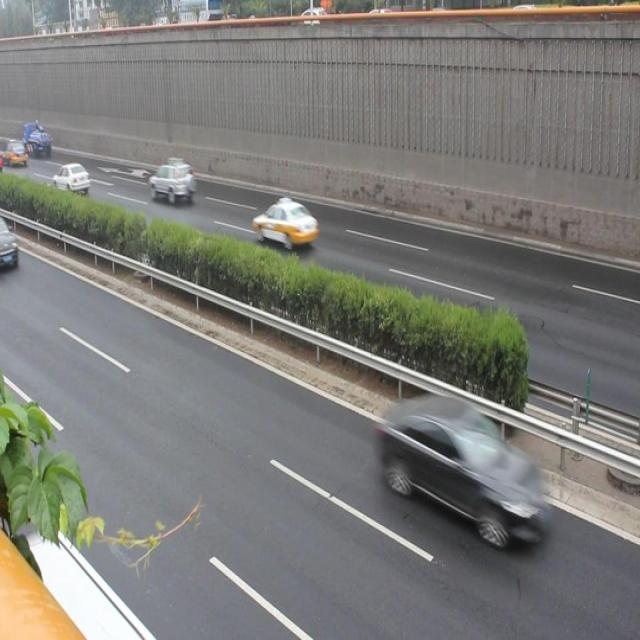car: (376, 391, 558, 551), (15, 512, 167, 640), (257, 191, 320, 258), (150, 156, 194, 203)
